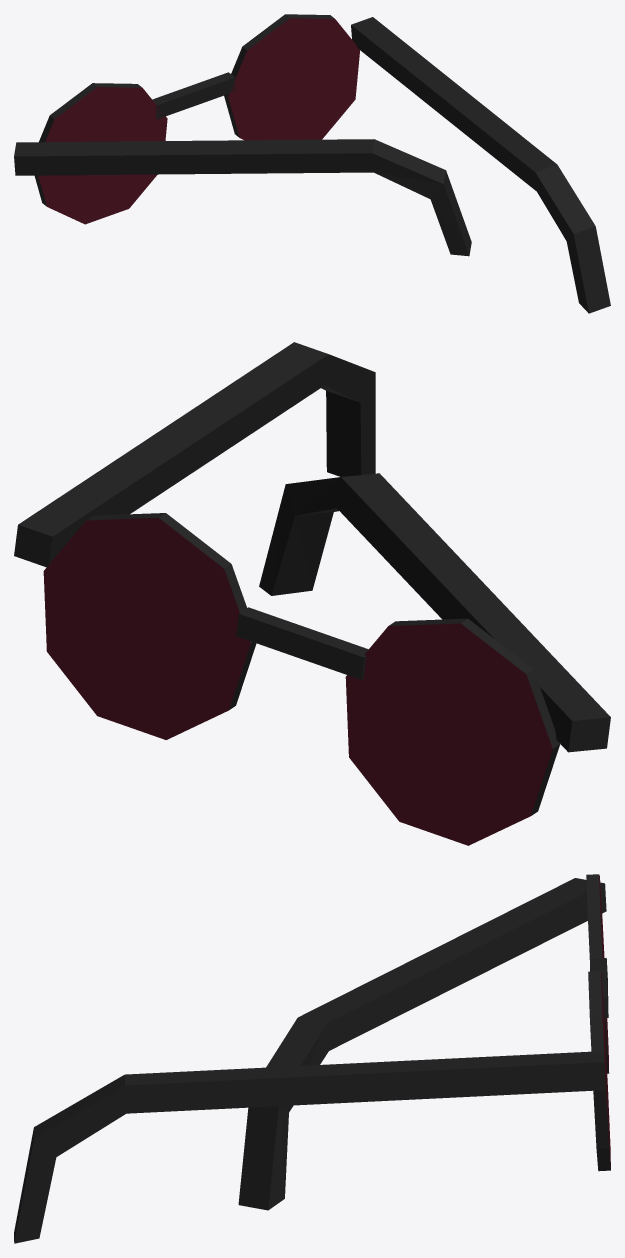
File: sunglasses.glb
3 views of the same model, one above another, from view 1: azimuth 30°, elevation 25°; view 2: azimuth 150°, elevation 25°; view 3: azimuth 270°, elevation 25° (orthographic). The views are drawn at different scales.
Parts seen in each view (by area): view 1: M000; view 2: M000; view 3: M000.
Boxes of the visible parts, x1,y1,x2,y2 form: M000: (14, 14, 610, 313); M000: (14, 342, 610, 845); M000: (14, 874, 610, 1243).
Bounding box in the file's own units: 139 × 54.96 × 141.
Materials: 1 (1 with a texture image).
